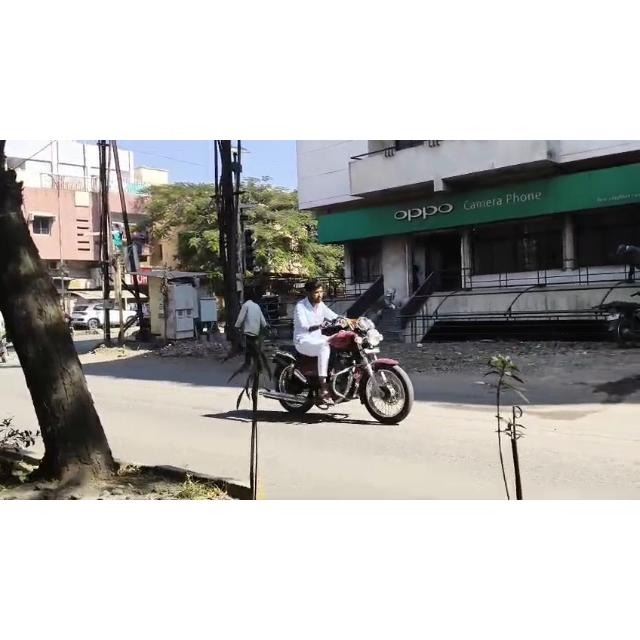car: (75, 295, 145, 333)
